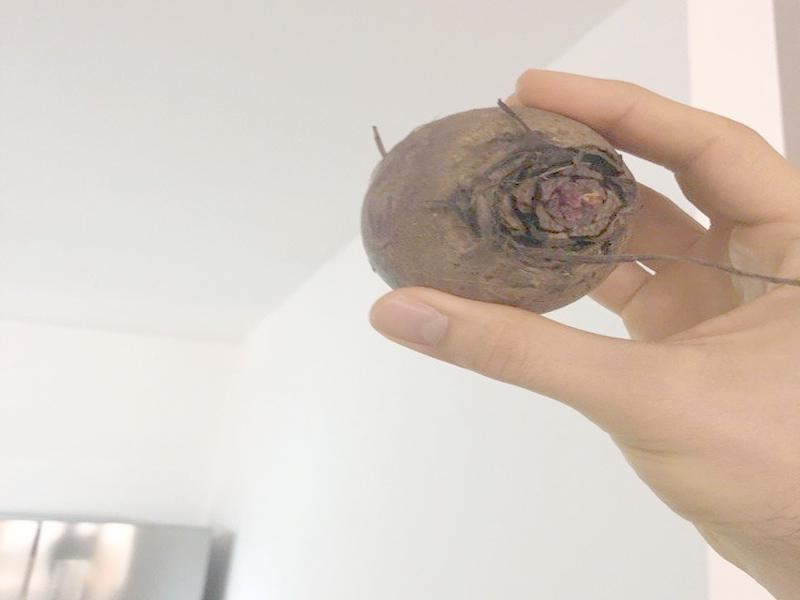Beet: (358, 98, 796, 317)
